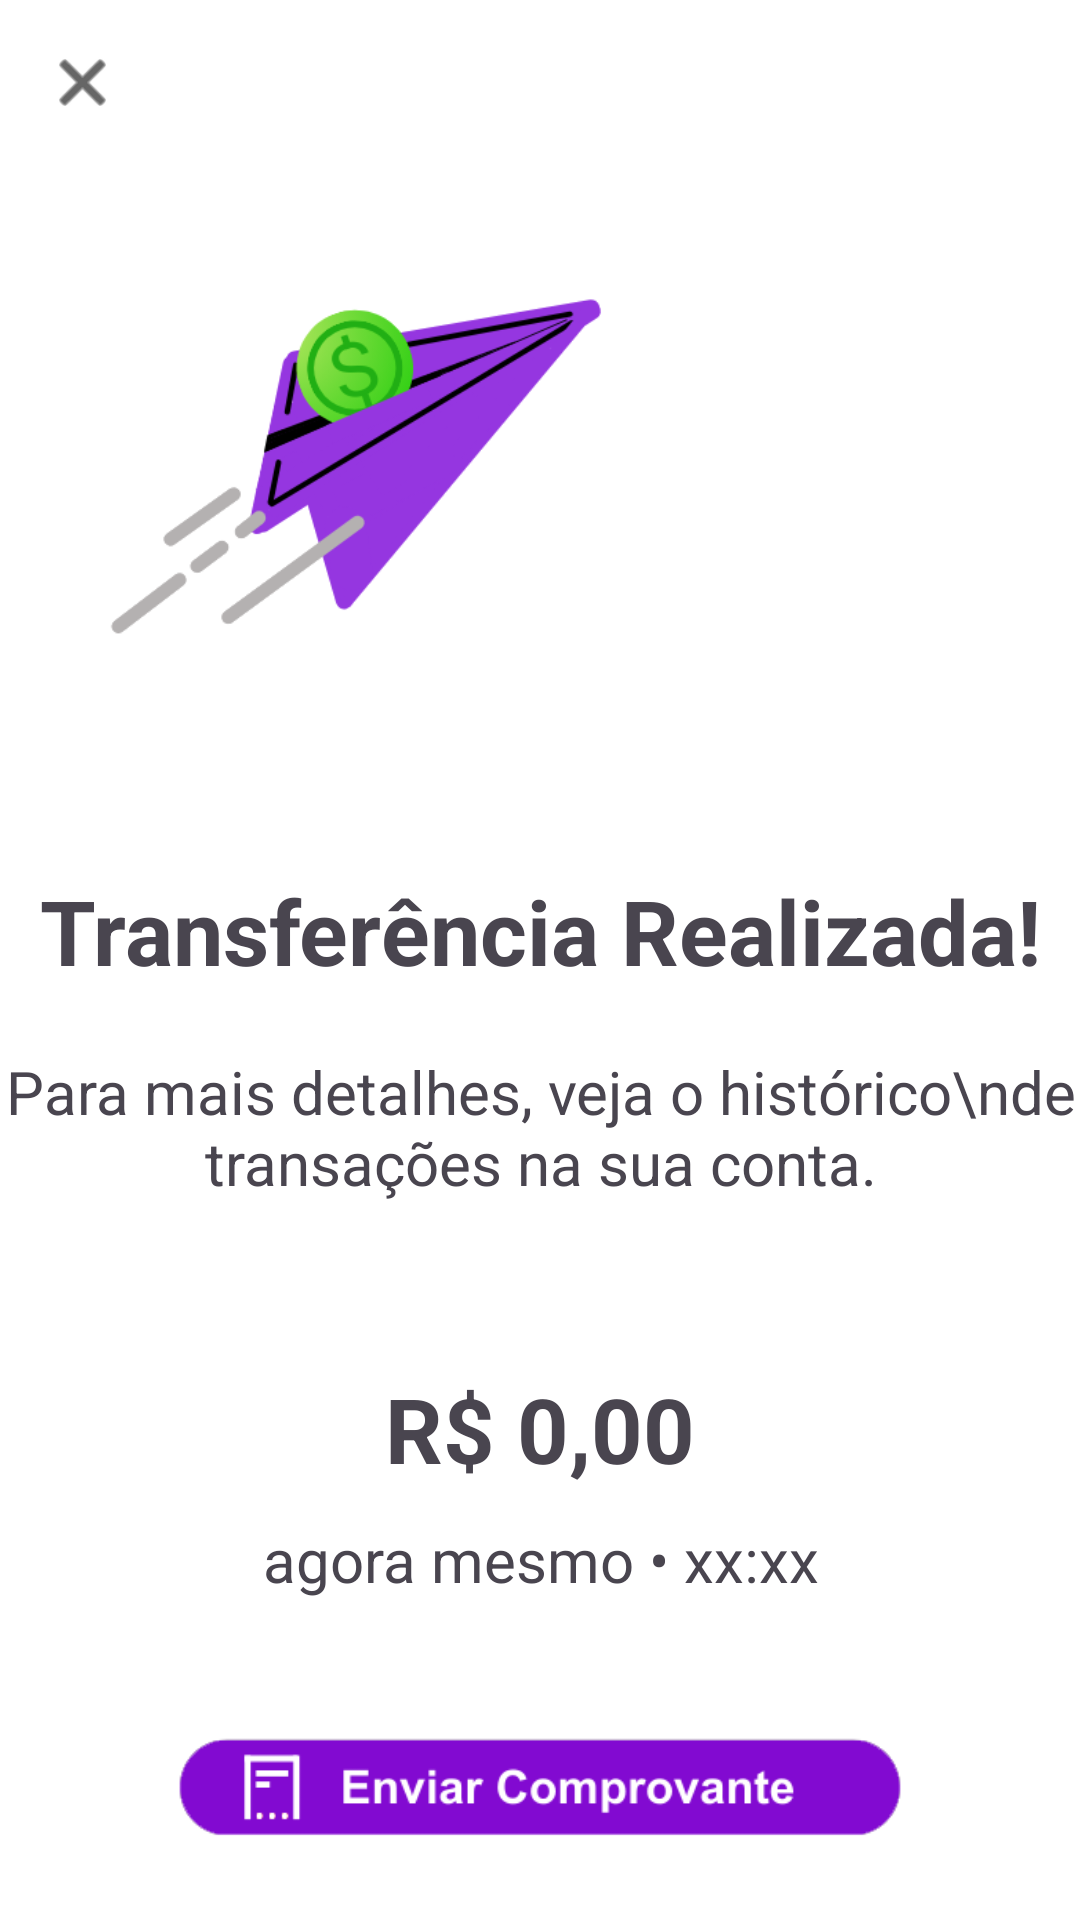

Where icons sit on this 1080px×1920px app screen, as (x1, y1, x2, y2):
close clear cancel: (59, 59, 106, 106)
